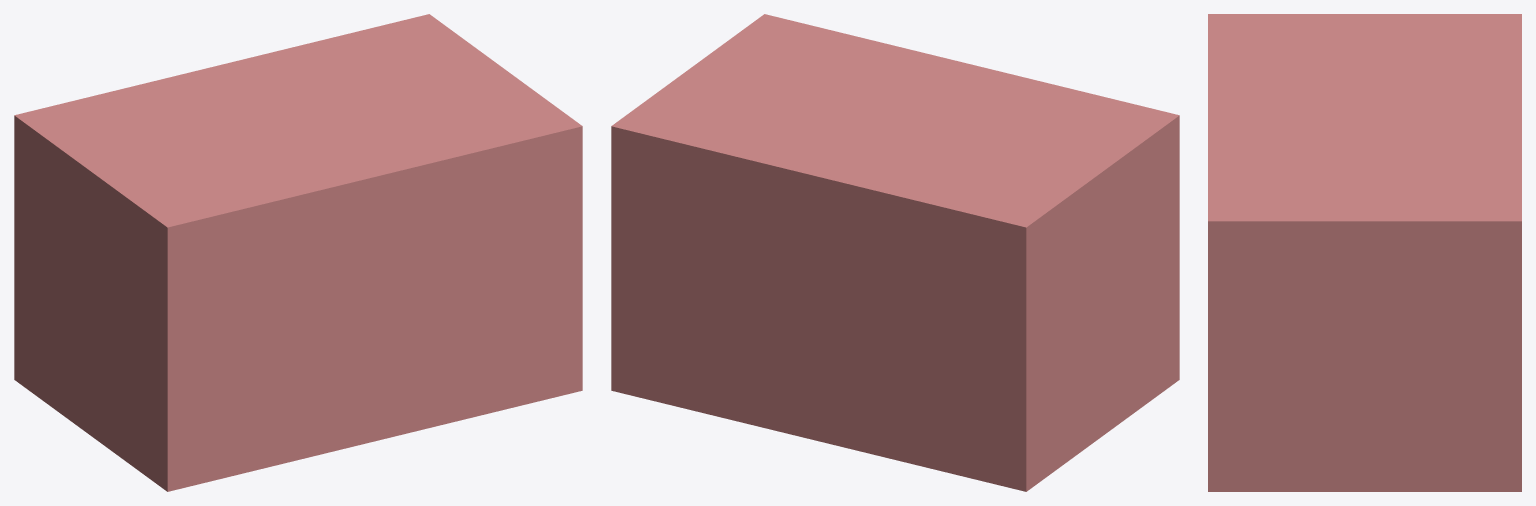
The model's file is 199504_occ.glb.
The picture shows the model from 3 angles, left to right: view 1: azimuth 30°, elevation 25°; view 2: azimuth 150°, elevation 25°; view 3: azimuth 270°, elevation 25°; orthographic projection. The views are drawn at different scales.
Visible parts, largest first — view 1: world; view 2: world; view 3: world.
Part boxes in pixels (x1,y1,x2,y2): world: (14, 14, 582, 491); world: (611, 14, 1179, 491); world: (1208, 14, 1521, 491).
Bounding box in the file's own units: 3.17 × 1.93 × 2.03.
